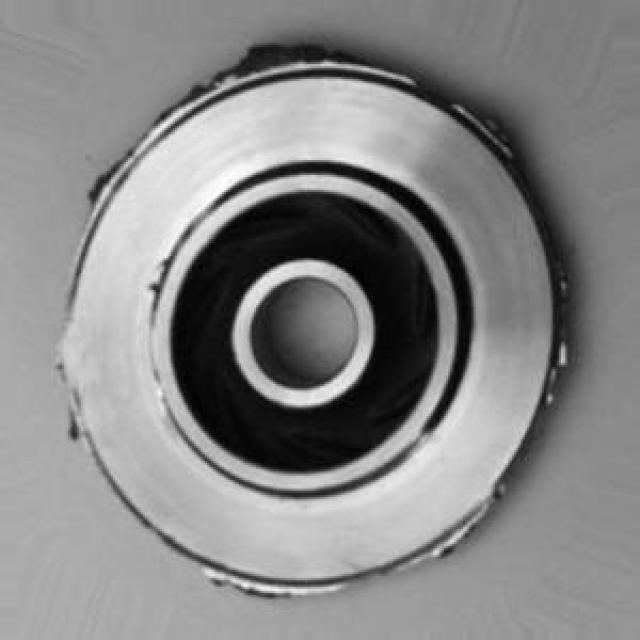Defect: (206, 42, 331, 78)
